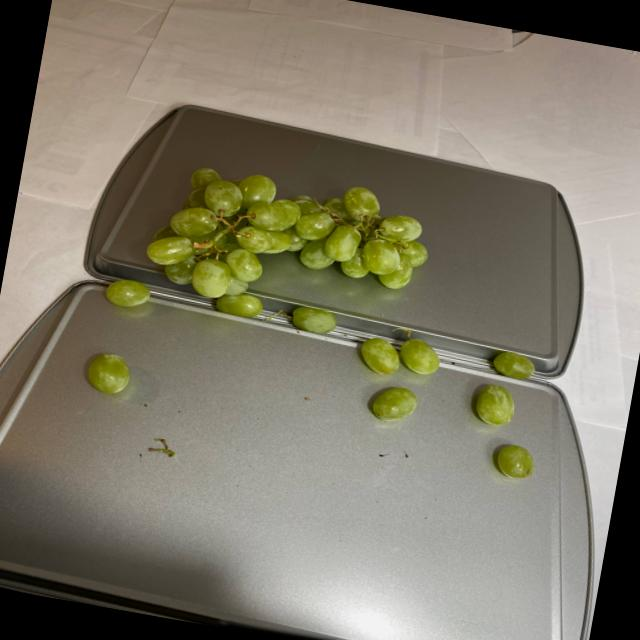grapes: (89, 151, 575, 482)
